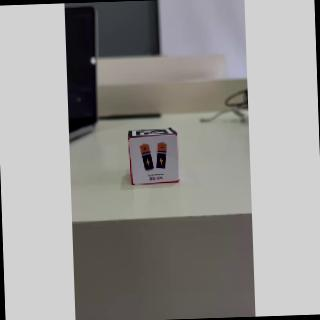Used_Battery: (130, 138, 180, 185)
